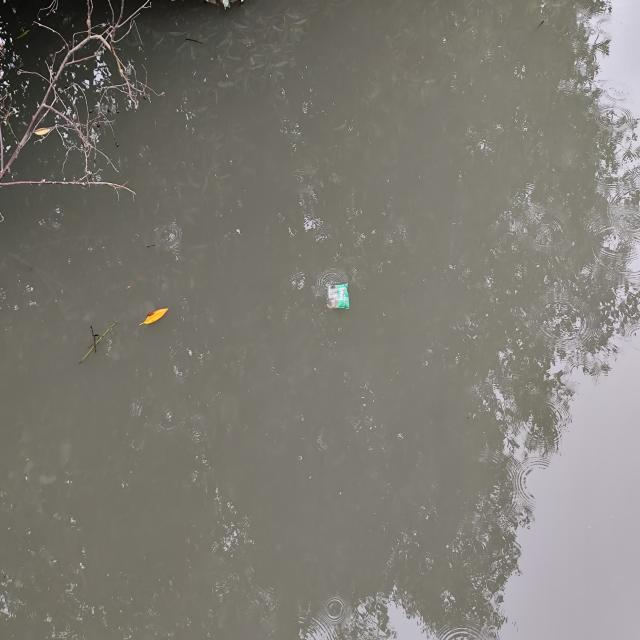Bungkus Makanan: (326, 281, 353, 312)
